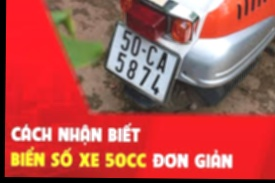Bien-so: (99, 24, 179, 110)
